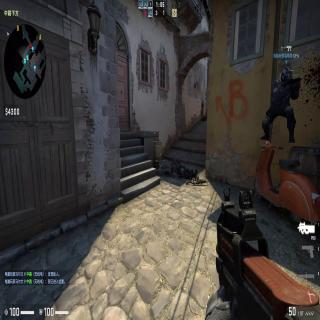CT-Body: (261, 65, 302, 142)
CT-Head: (280, 66, 292, 88)
